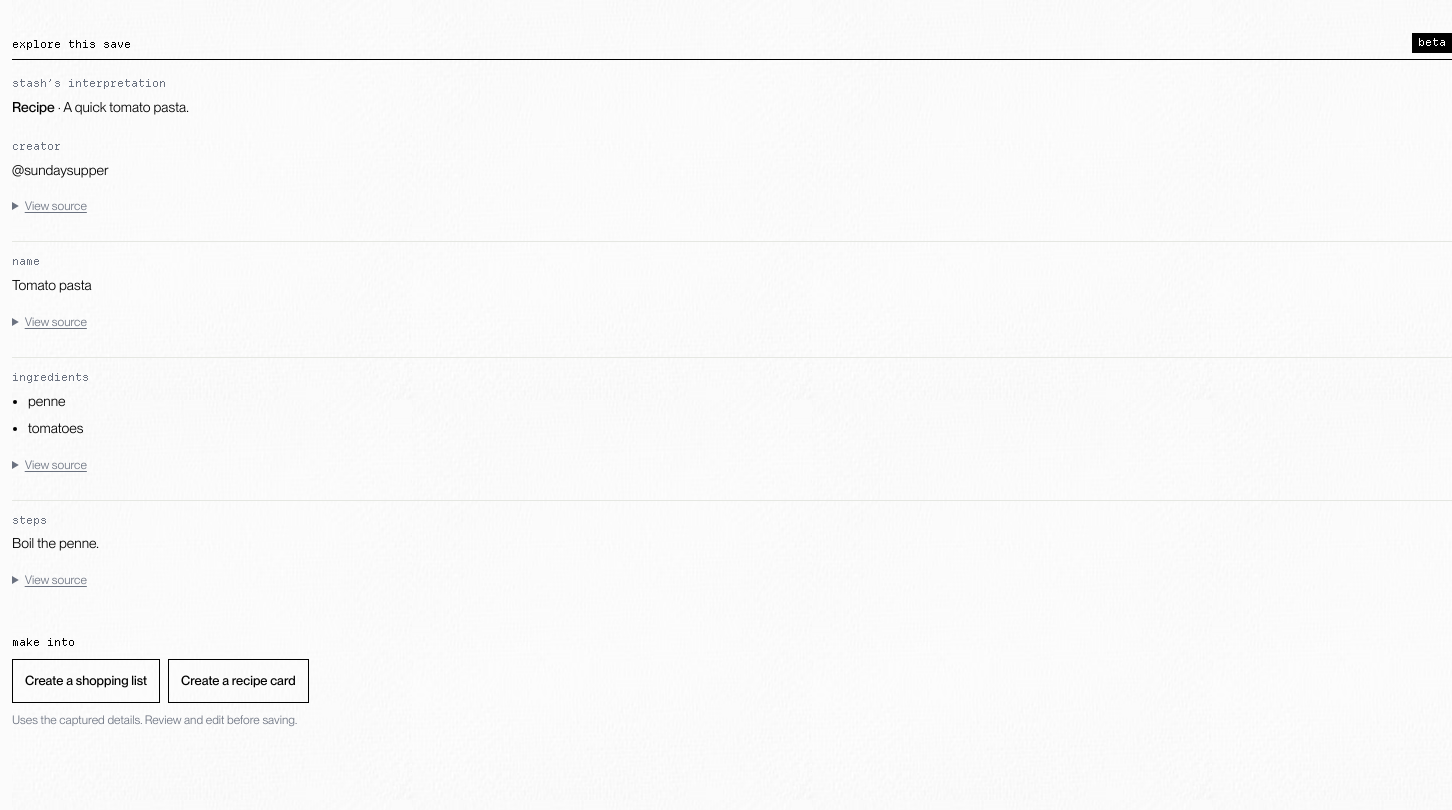
it: displays only server-validated facts with exact source quotations and supported actions
The width and height of the screenshot is (1452, 810).
Expected: the text "@sundaysupper" is shown, [12,162,108,178]
Expected: the text "Stash’s interpretation" is shown, [12,76,166,90]
Click the heading "View source" below "tomatoes". click: point(56, 464)
box: [25,458,87,472]
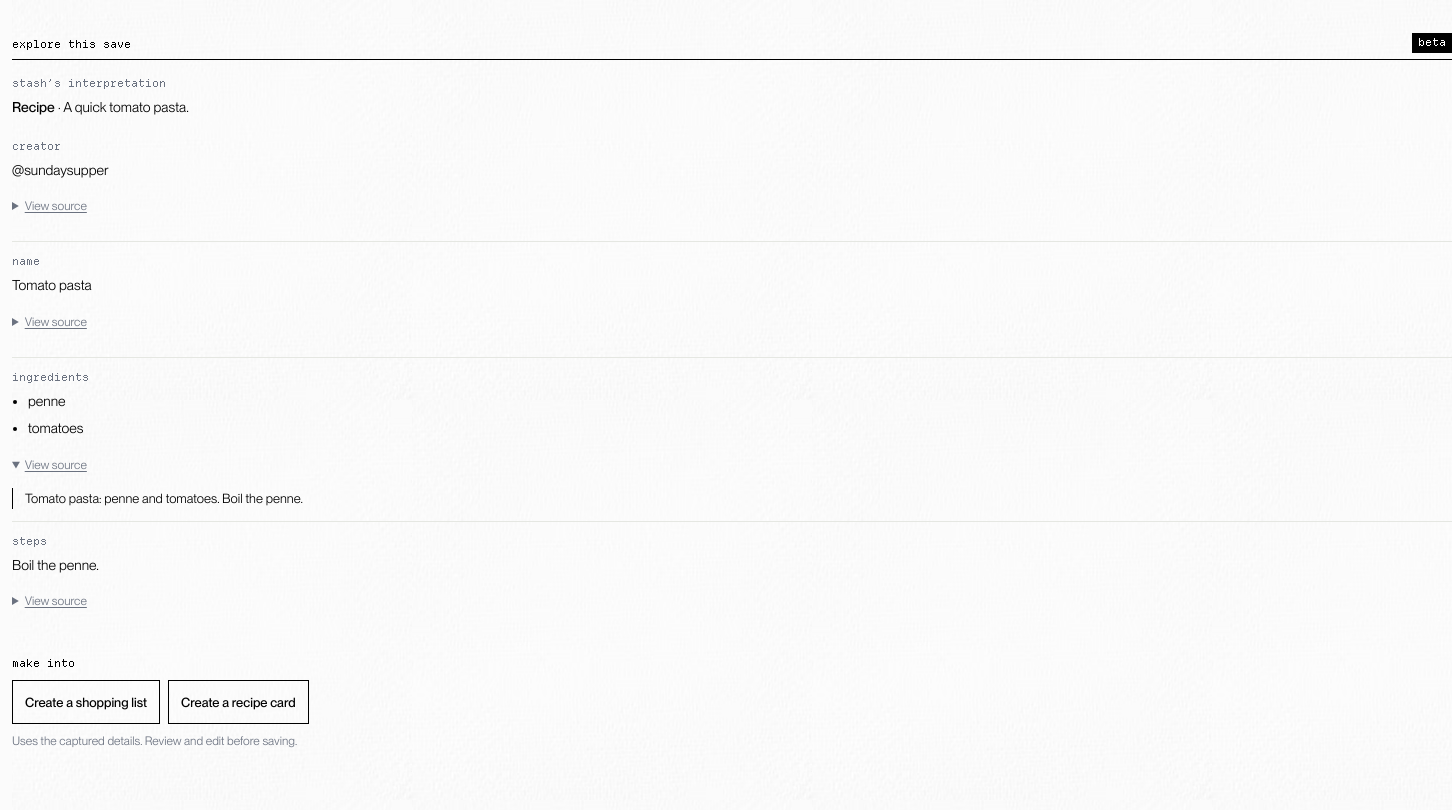
Expected: the text "Tomato pasta: penne and tomatoes. Boil the penne." is shown, [25,490,303,506]
